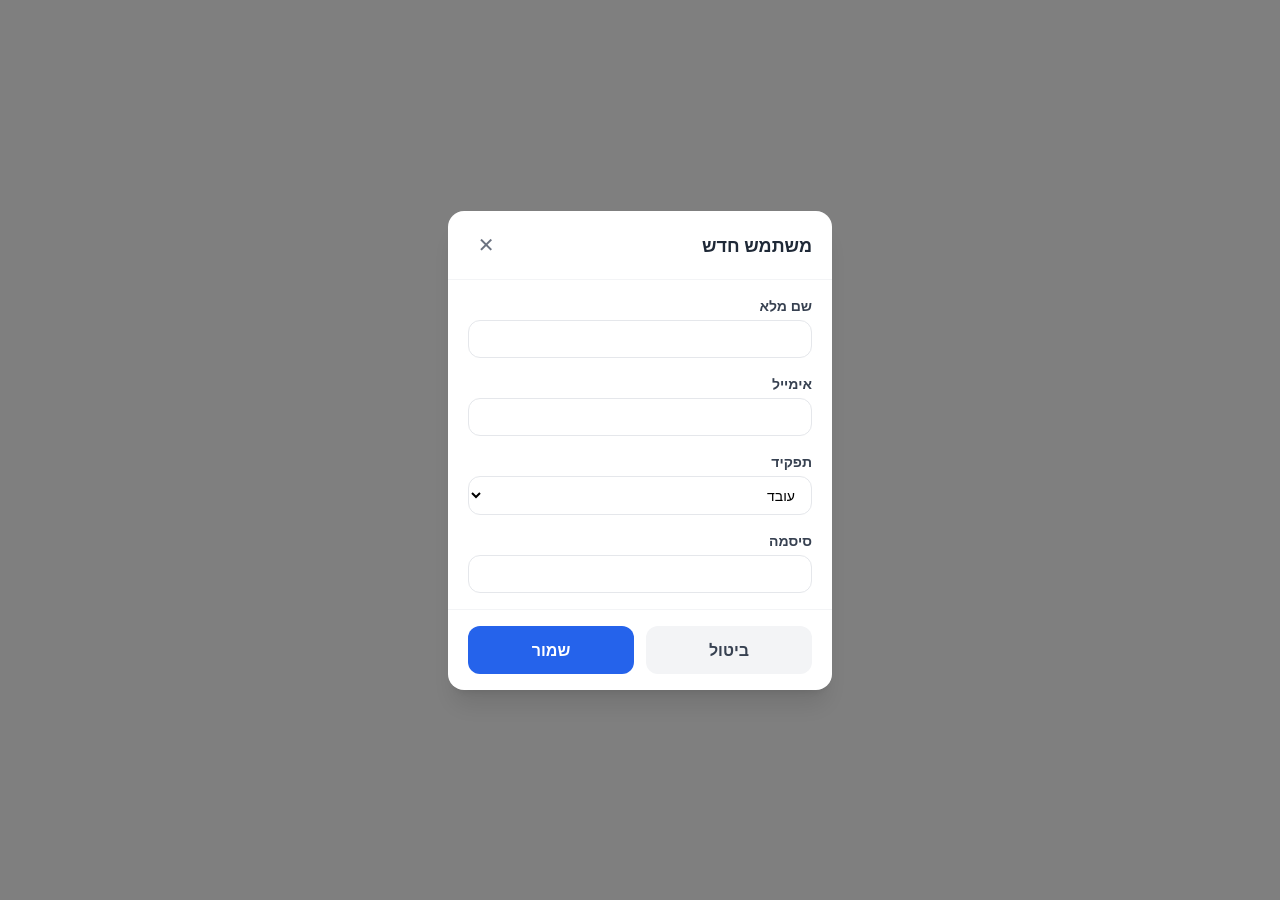
API error handling › shows duplicate-email message on 409
The width and height of the screenshot is (1280, 900).
In the field labelled "שם מלא": x=640, y=338 [468,320,812,358], type "Test User"
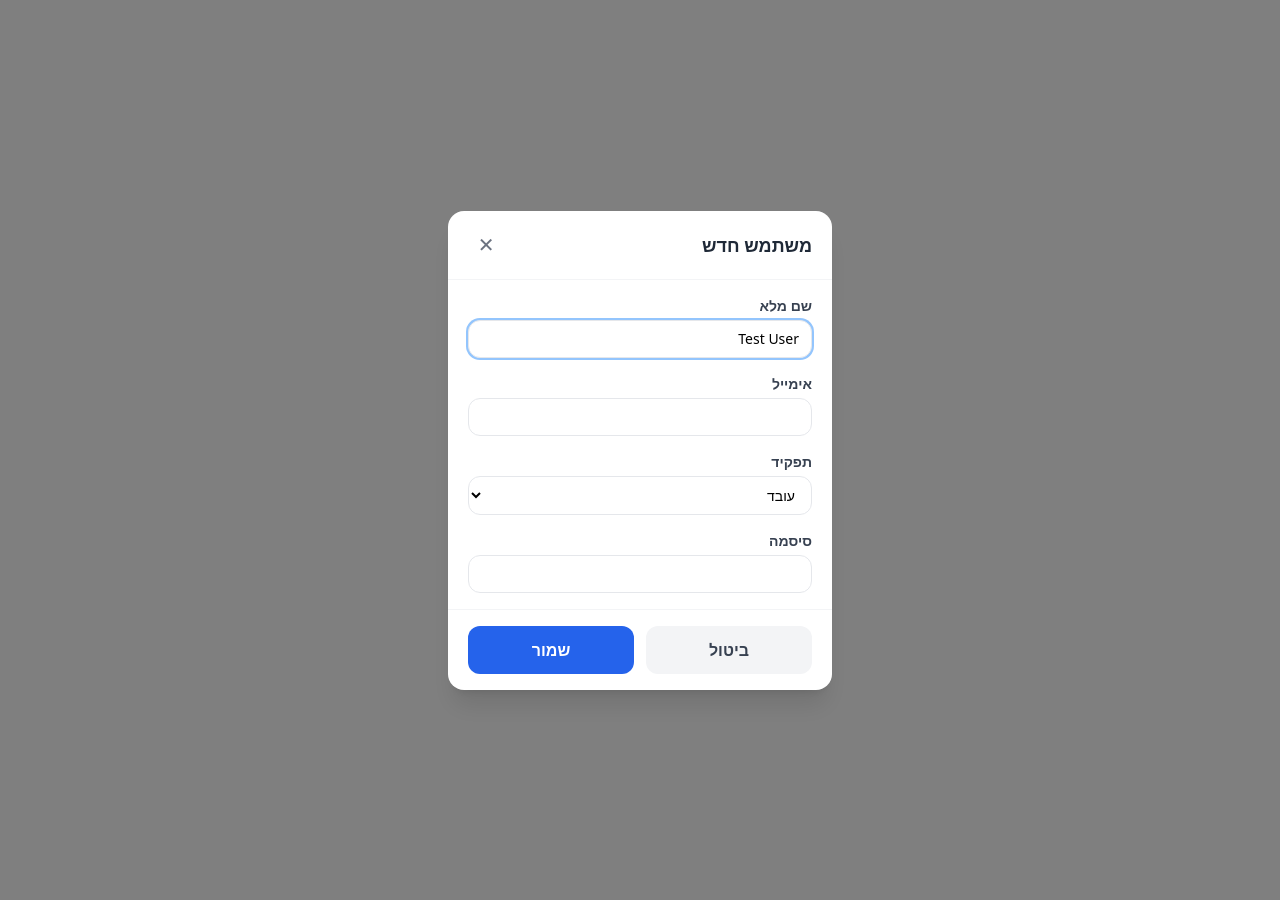
In the field labelled "אימייל": x=640, y=416 [468,398,812,436], type "test@example.com"
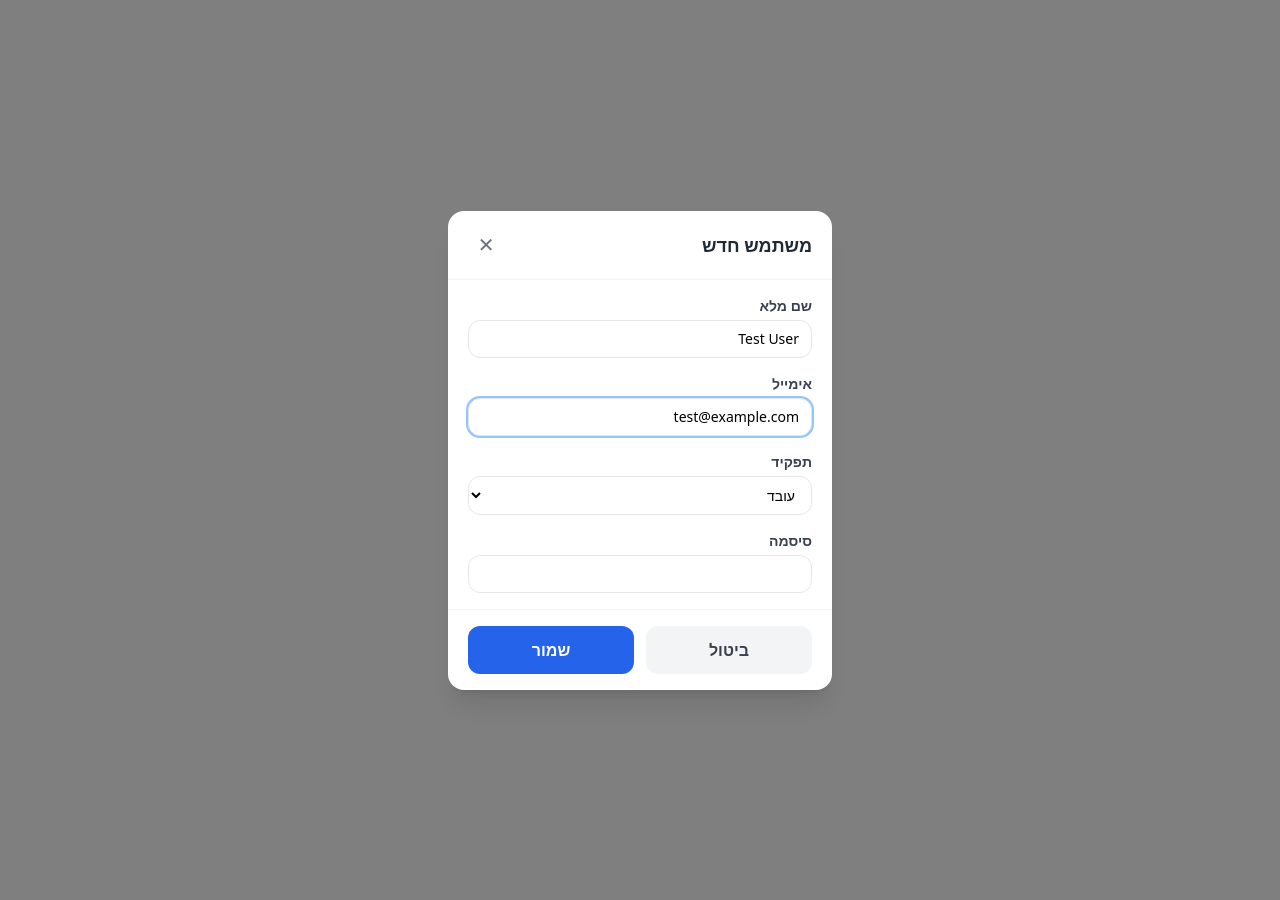
In the password field labelled "סיסמה": x=640, y=574 [468,554,812,592], type "Password1!"
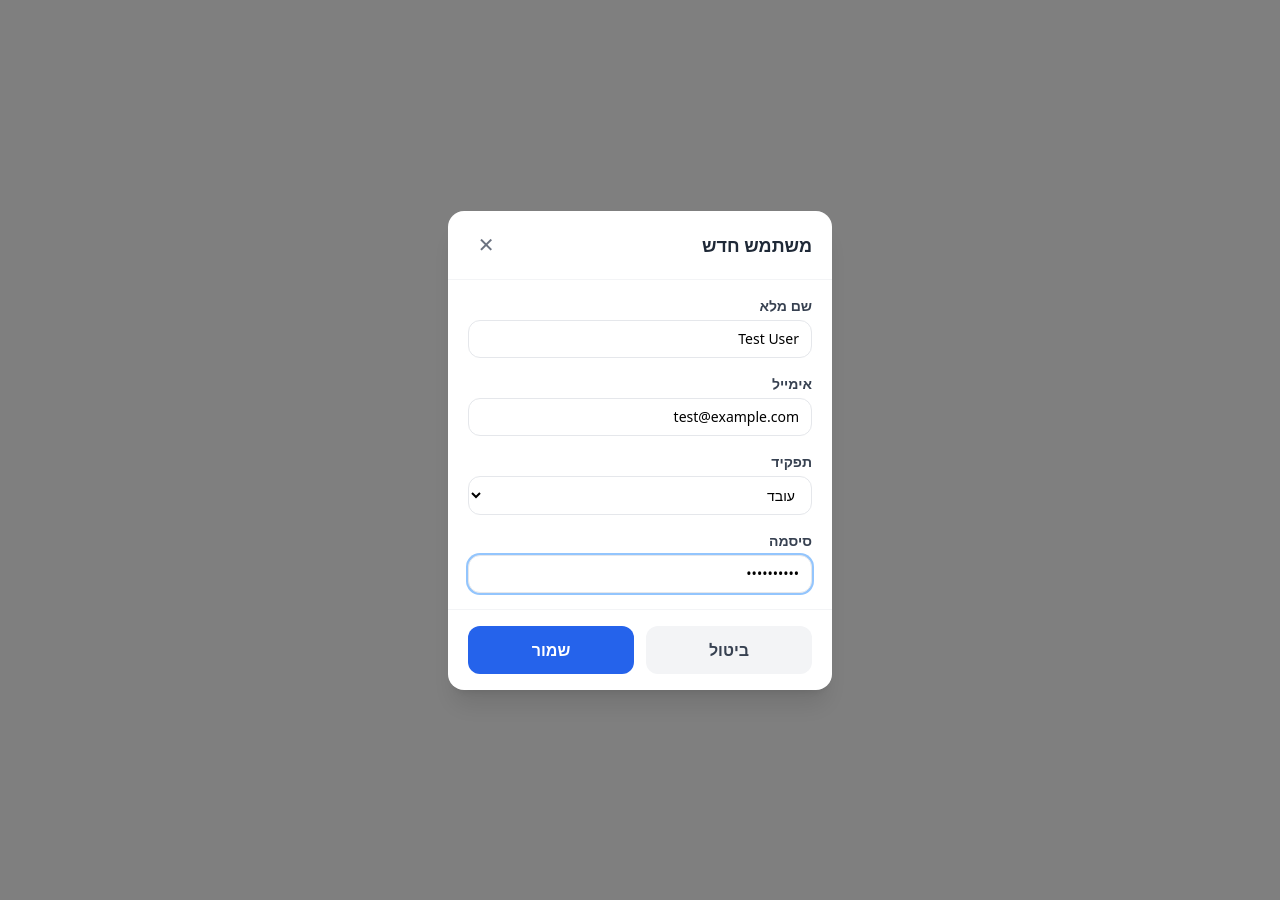
Click the button "שמור": x=551, y=650 [468,626,634,674]
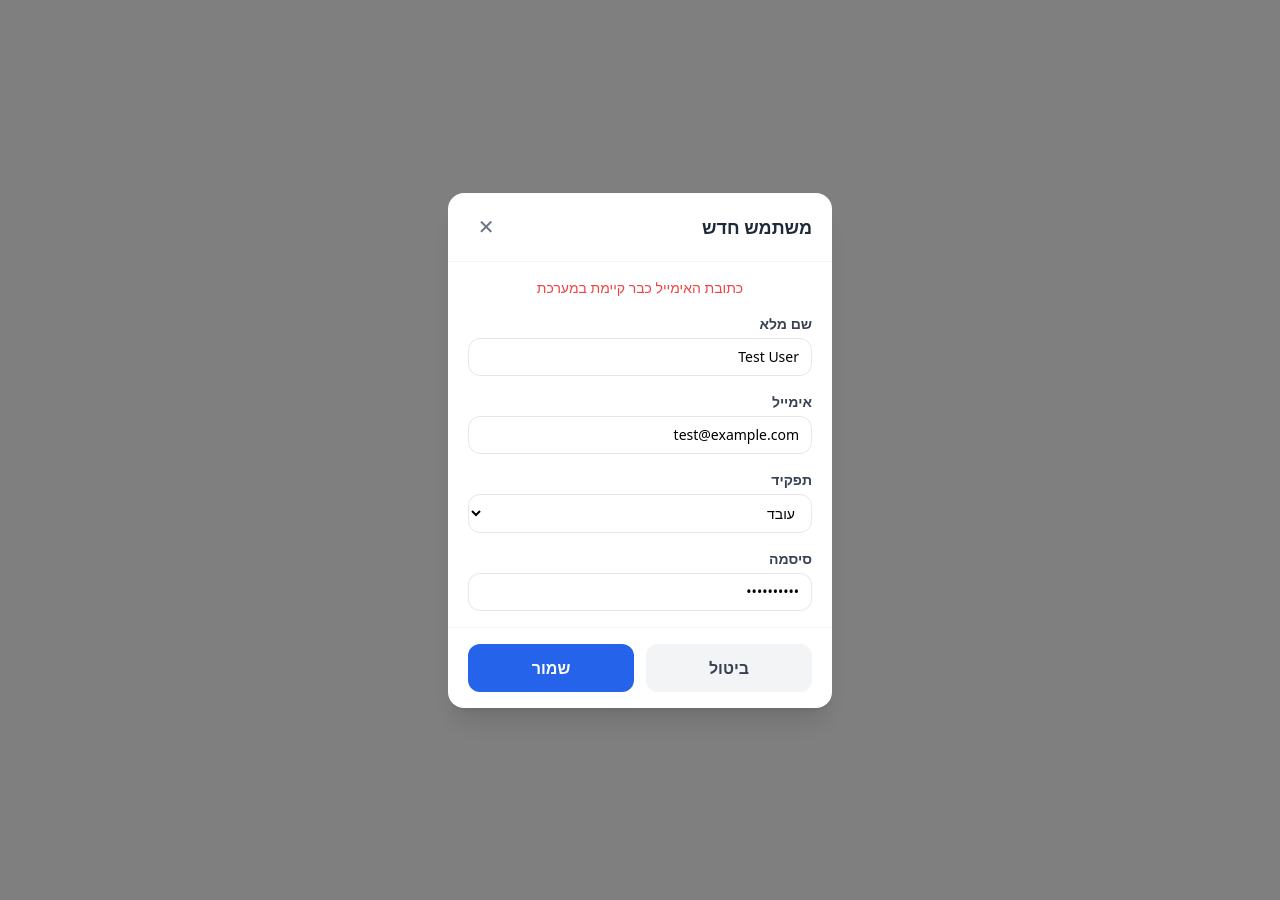
Expected: the message reads "כתובת האימייל כבר קיימת במערכת", [537,278,743,296]
